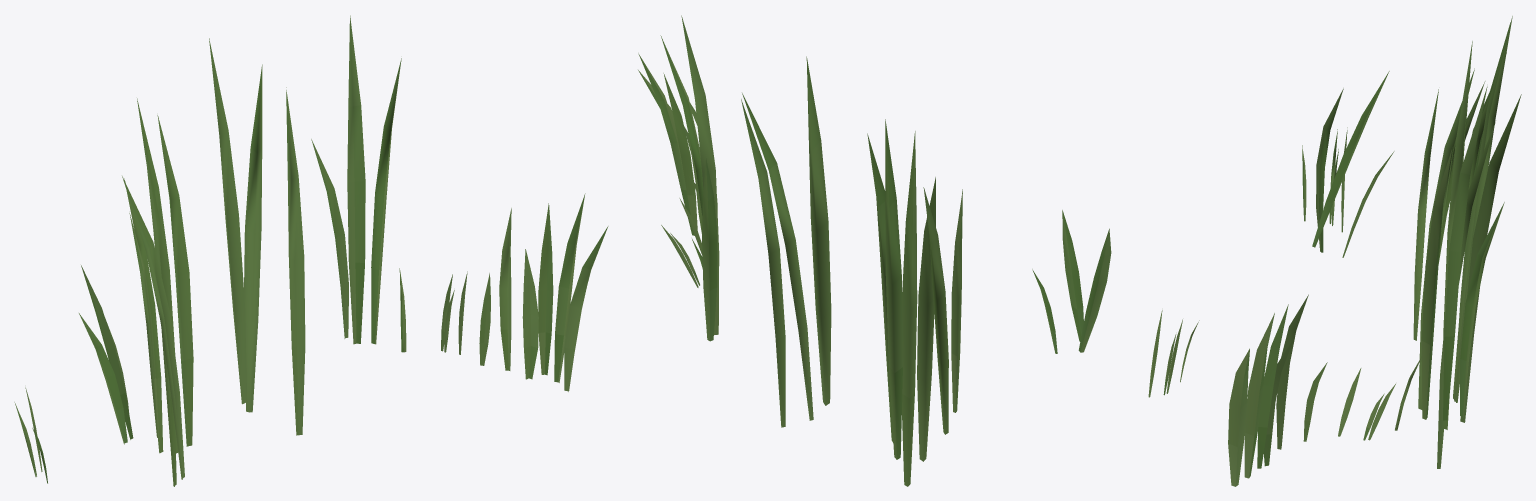
File: Grass.fbx
The picture shows the model from 3 angles, left to right: view 1: azimuth 30°, elevation 25°; view 2: azimuth 150°, elevation 25°; view 3: azimuth 270°, elevation 25°; orthographic projection. The views are drawn at different scales.
Parts seen in each view (by area): view 1: Grass; view 2: Grass; view 3: Grass.
Part boxes in pixels (<box>): Grass: <box>14,15,608,486</box>; Grass: <box>638,15,1199,486</box>; Grass: <box>1228,16,1521,486</box>.
Size of the model in its own units: 11.62 by 8.26 by 4.88.
